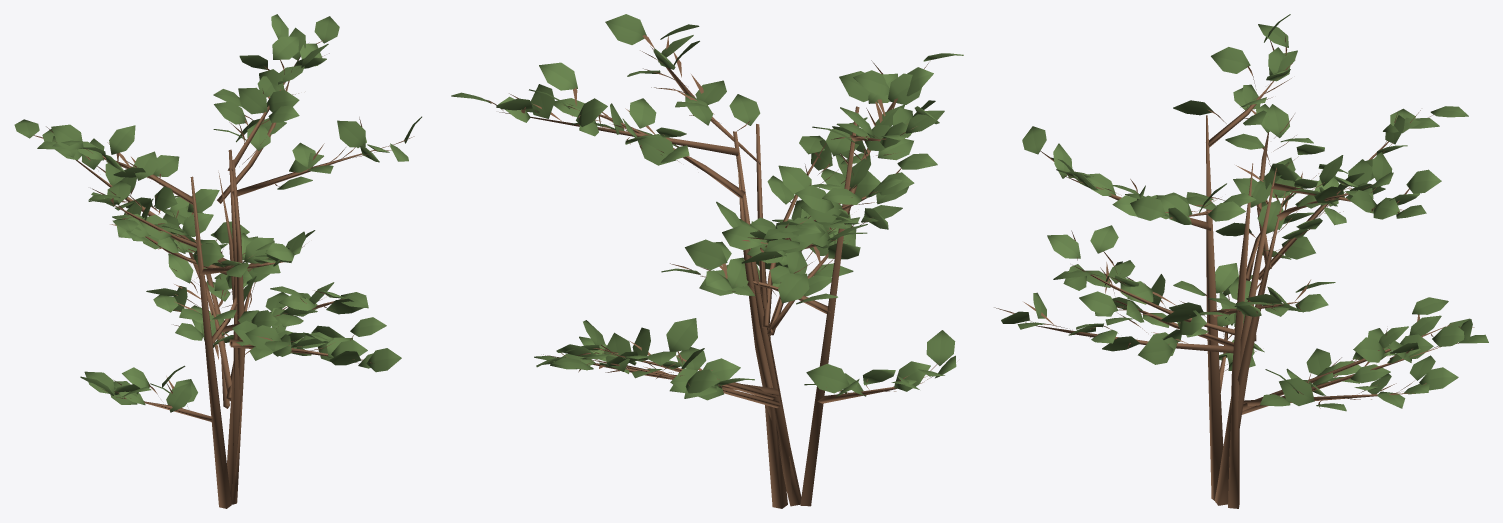
The model's file is Arbousier_0_LOD2.fbx.
3 views of the same model, side by side, from view 1: azimuth 30°, elevation 25°; view 2: azimuth 150°, elevation 25°; view 3: azimuth 270°, elevation 25° (orthographic). The views are drawn at different scales.
Visible parts, largest first — view 1: Arbousier_0_LOD2; view 2: Arbousier_0_LOD2; view 3: Arbousier_0_LOD2.
Part boxes in pixels (x1,y1,x2,y2): Arbousier_0_LOD2: [14, 14, 421, 508]; Arbousier_0_LOD2: [451, 14, 963, 508]; Arbousier_0_LOD2: [994, 14, 1488, 508].
Size of the model in its own units: 284 by 308 by 334.
